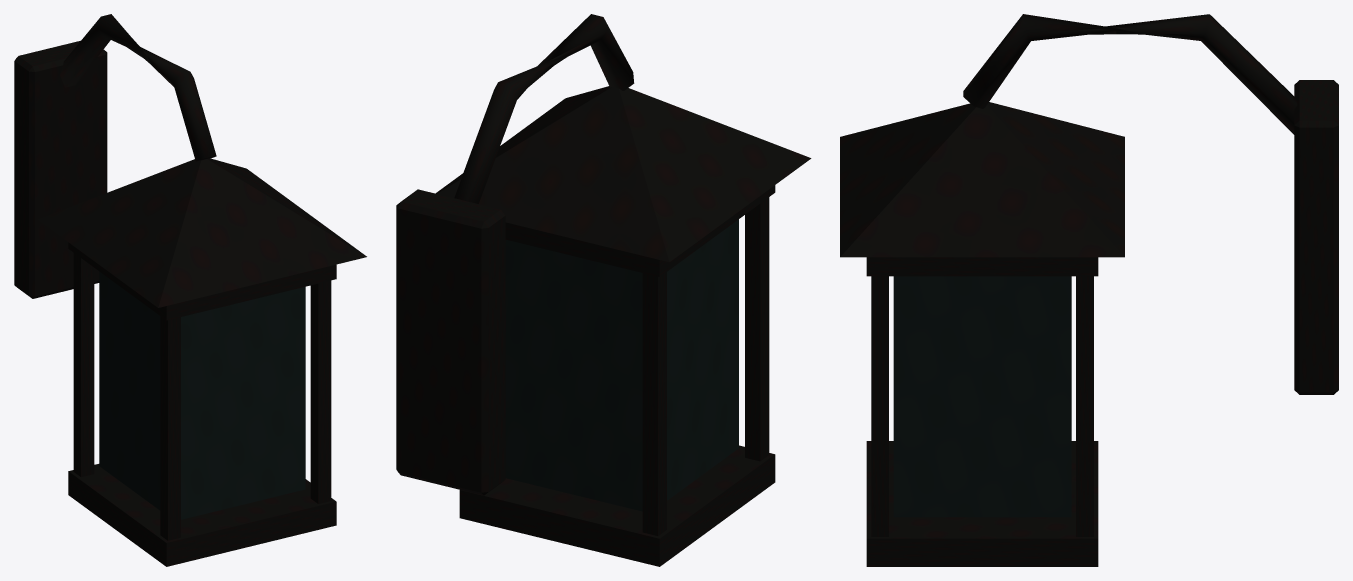
Rendered from wall_lantern.glb.
The picture shows the model from 3 angles, left to right: view 1: azimuth 30°, elevation 25°; view 2: azimuth 150°, elevation 25°; view 3: azimuth 270°, elevation 25°; orthographic projection. The views are drawn at different scales.
Parts seen in each view (by area): view 1: wall_lantern; view 2: wall_lantern; view 3: wall_lantern.
Part boxes in pixels (x1,y1,x2,y2): wall_lantern: (14, 14, 366, 566); wall_lantern: (396, 14, 811, 566); wall_lantern: (840, 14, 1338, 566).
Size of the model in its own units: 0.32 by 0.6206 by 0.56.
1 material, 1 textured.
